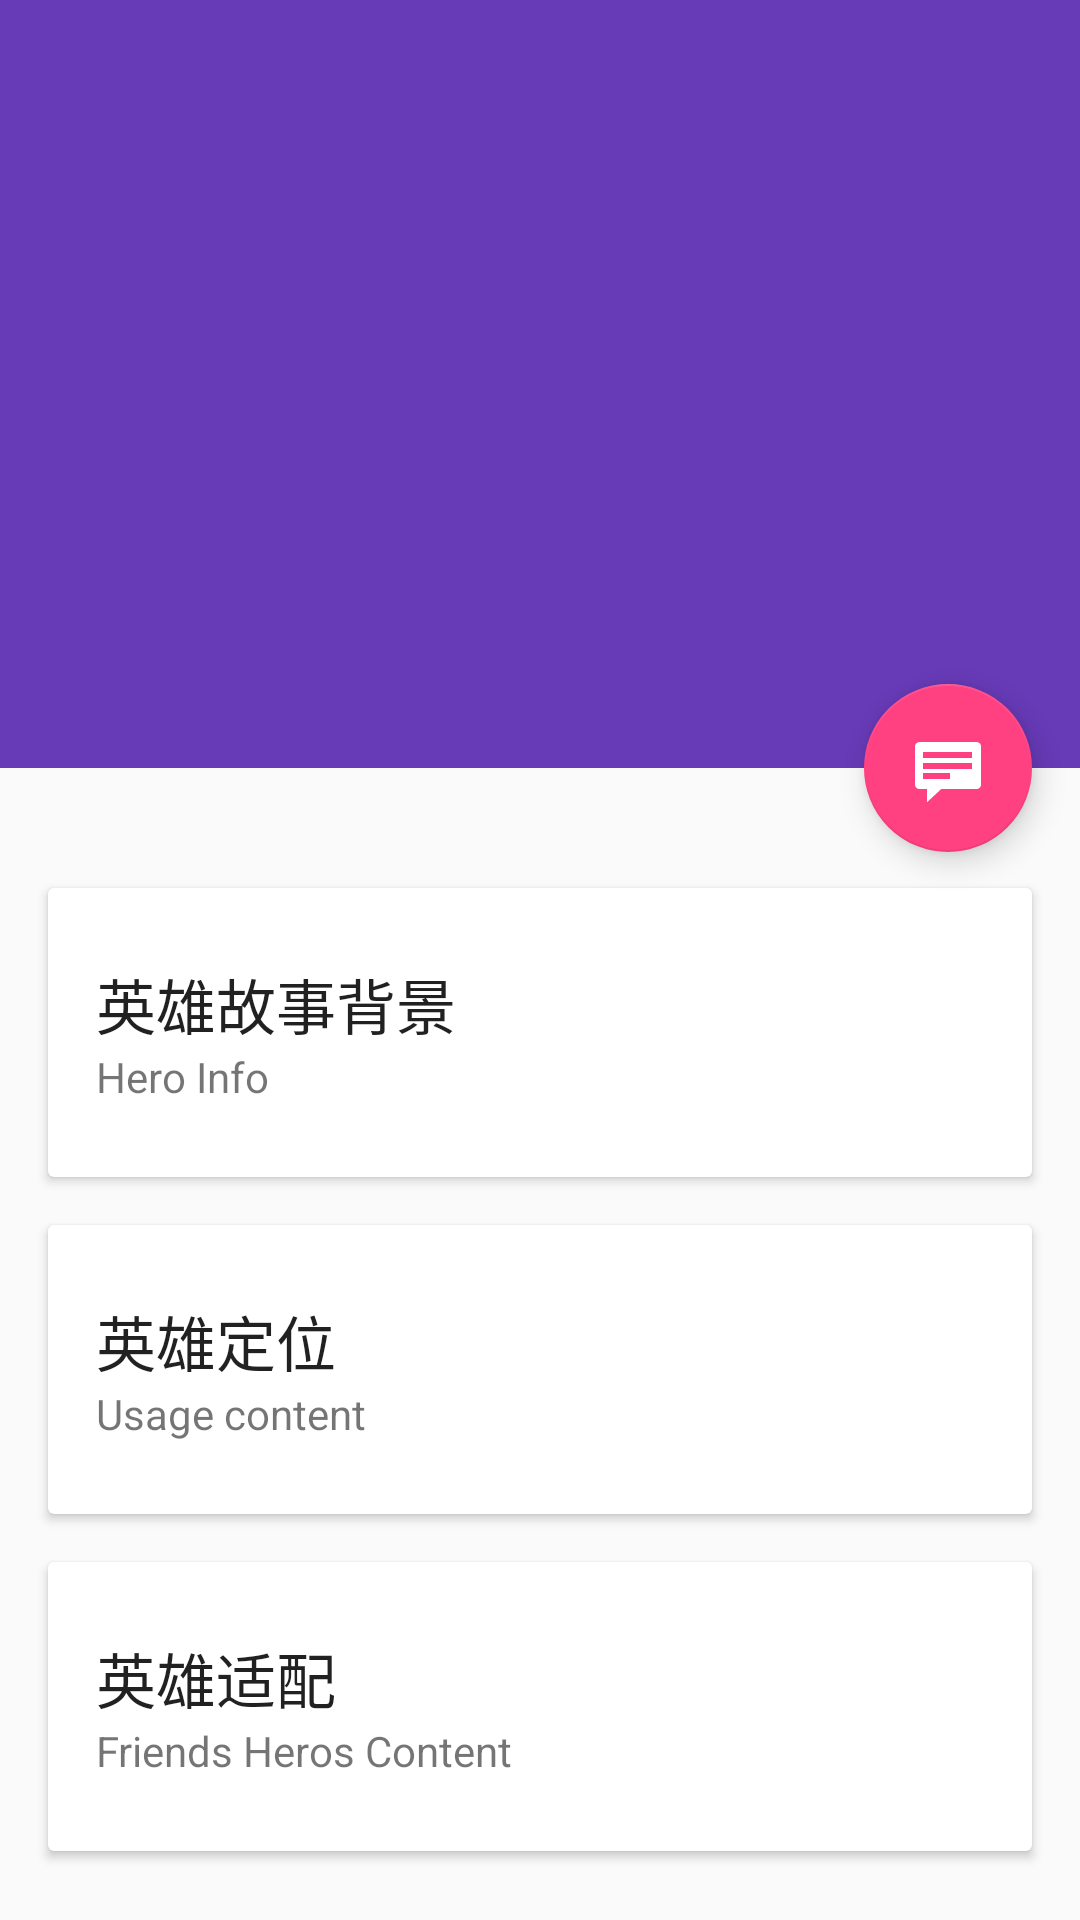

Screen size 1080 × 1920. Icon name, then its center in pixels as (x=x, y=y):
chat: (x=948, y=768)
